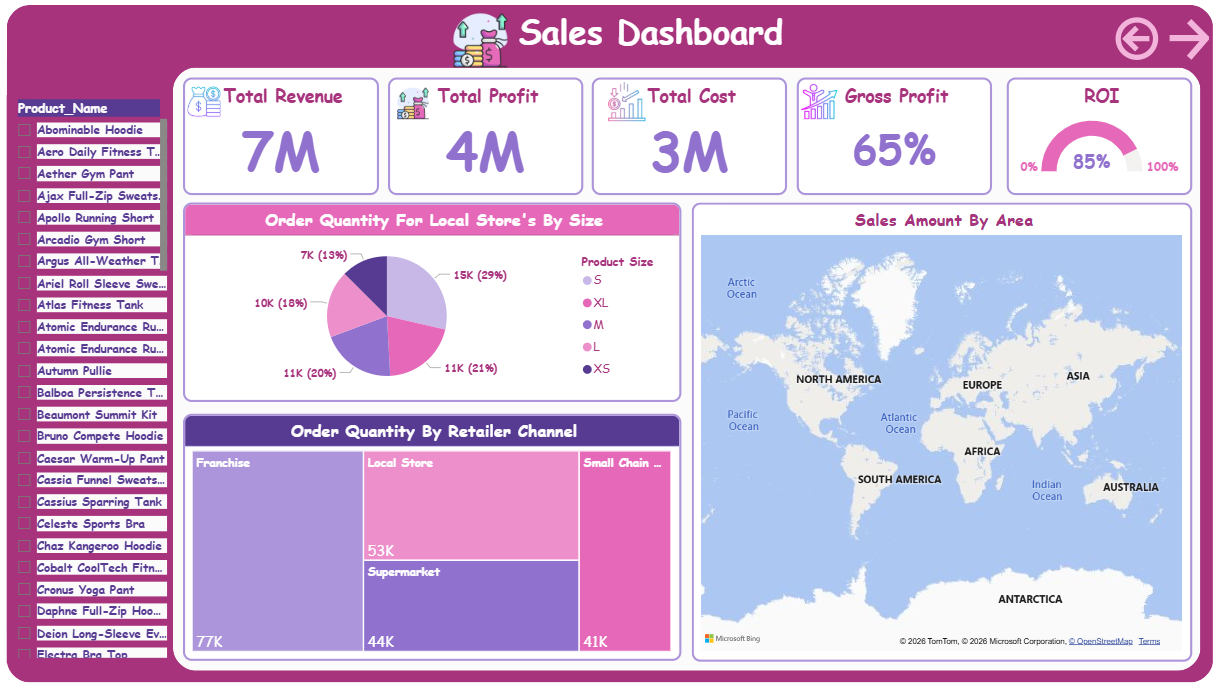

The dashboard page shown, as its layout file describes it:
{"tool":"powerbi","page":{"name":"Product Analysis 1","canvas":[1400,800],"ordinal":1},"visuals":[{"type":"shape","box":[10.6,12.1,1378.8,774.2],"z":0},{"type":"card","title":"Total Revenue","fields":{"Values":["Calculations.Total Revenue"]},"box":[212,93.8,223.9,134.5],"z":0,"group":"g1"},{"type":"shape","box":[200,83.3,1174.2,689.4],"z":1000},{"type":"card","title":"Total Profit","fields":{"Values":["Calculations.Total Profit"]},"box":[446,93.8,223.5,134.2],"z":1000,"group":"g1"},{"type":"textbox","title":"Sales Dashboard","box":[337.9,15.2,815.2,53],"z":2000},{"type":"card","title":"Total Cost","fields":{"Values":["Calculations.Total Cost"]},"box":[679.6,93.8,223.5,134.5],"z":2000,"group":"g1"},{"type":"treemap","title":"Order Quantity  By Retailer Channel","fields":{"Values":["Sum(Orders. Order_Quantity )"],"Group":["Retailers.Retailer_Channel"]},"box":[212,478.3,569.3,282.6],"z":3000},{"type":"card","title":"Gross Profit","fields":{"Values":["Calculations.Gross Profit"]},"box":[913.1,93.8,223.5,134.2],"z":4000,"group":"g1"},{"type":"pieChart","title":"Order Quantity For Local Store''s By Size","fields":{"Y":["Calculations.Total Quantity By Local Store"],"Category":["Unique Products.Product_Size"]},"box":[212,237.8,569.3,228.3],"z":4000},{"type":"filledMap","title":"Sales Amount By Area","fields":{"Category":["Retailers.Area"],"Y":["Sum(Orders.Sales_Amount)"]},"box":[793.5,237.8,572,524.5],"z":5000},{"type":"group","id":"g1","title":"Group 1","box":[212,93.8,923.9,134.5],"z":6000},{"type":"image","box":[211.4,91.4,48.6,60],"z":7000},{"type":"image","box":[691.4,91.4,54.3,60],"z":8000},{"type":"image","box":[912.9,91.4,51.4,60],"z":9000},{"type":"image","box":[451.4,97.1,45.7,54.3],"z":10000},{"type":"slicer","fields":{"Values":["Unique Products.Product_Name"]},"box":[10,114.3,188.6,648.6],"z":11000},{"type":"gauge","title":"ROI","fields":{"Y":["Calculations.ROI"]},"box":[1153.5,93.8,212,134.5],"z":12000},{"type":"image","box":[515.7,11.4,71.4,80],"z":14000},{"type":"actionButton","box":[1224.3,8.6,118.6,82.9],"z":15000},{"type":"actionButton","box":[1320,22.9,80,55.7],"z":16000}]}

Visuals, with their boxes in screenshot pixels (x1, y1, x2, y2), scaled from the page's 1400x800 canvas onto the 1217x690 screenshot:
shape: <region>9, 10, 1208, 678</region>
"Total Revenue" card: <region>184, 81, 379, 197</region>
shape: <region>174, 72, 1195, 666</region>
"Total Profit" card: <region>388, 81, 582, 197</region>
"Sales Dashboard" textbox: <region>294, 13, 1002, 59</region>
"Total Cost" card: <region>591, 81, 785, 197</region>
"Order Quantity  By Retailer Channel" treemap: <region>184, 413, 679, 656</region>
"Gross Profit" card: <region>794, 81, 988, 197</region>
"Order Quantity For Local Store''s By Size" pieChart: <region>184, 205, 679, 402</region>
"Sales Amount By Area" filledMap: <region>690, 205, 1187, 657</region>
"Group 1" group: <region>184, 81, 987, 197</region>
image: <region>184, 79, 226, 131</region>
image: <region>601, 79, 648, 131</region>
image: <region>794, 79, 838, 131</region>
image: <region>392, 84, 432, 131</region>
slicer - Unique Products.Product_Name: <region>9, 99, 173, 658</region>
"ROI" gauge: <region>1003, 81, 1187, 197</region>
image: <region>448, 10, 510, 79</region>
actionButton: <region>1064, 7, 1167, 79</region>
actionButton: <region>1147, 20, 1216, 68</region>
